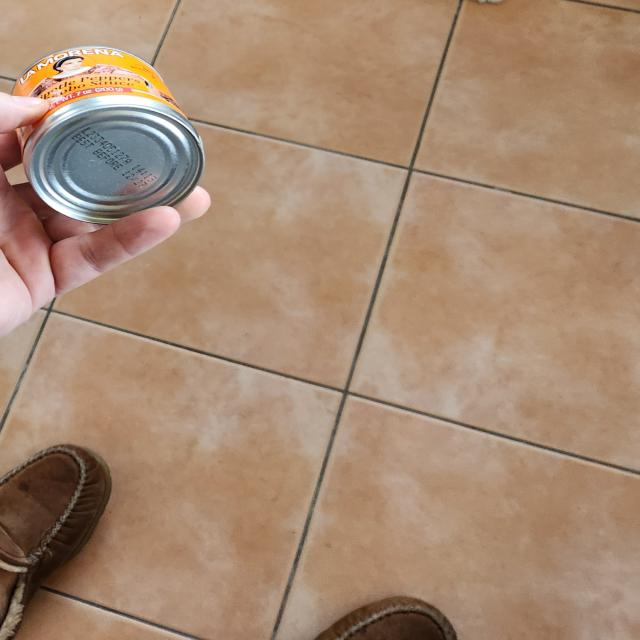beans: (13, 43, 211, 226)
